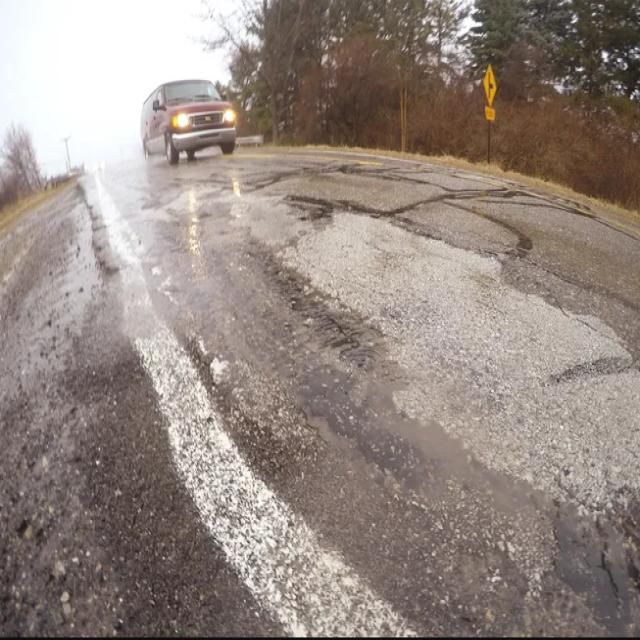Pothole: (0, 168, 155, 566)
